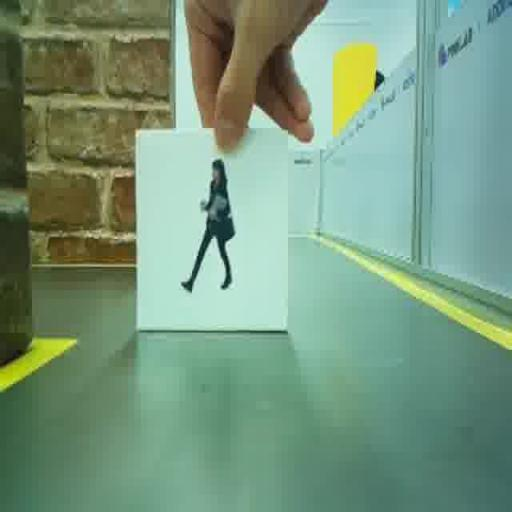human: (181, 159, 234, 291)
